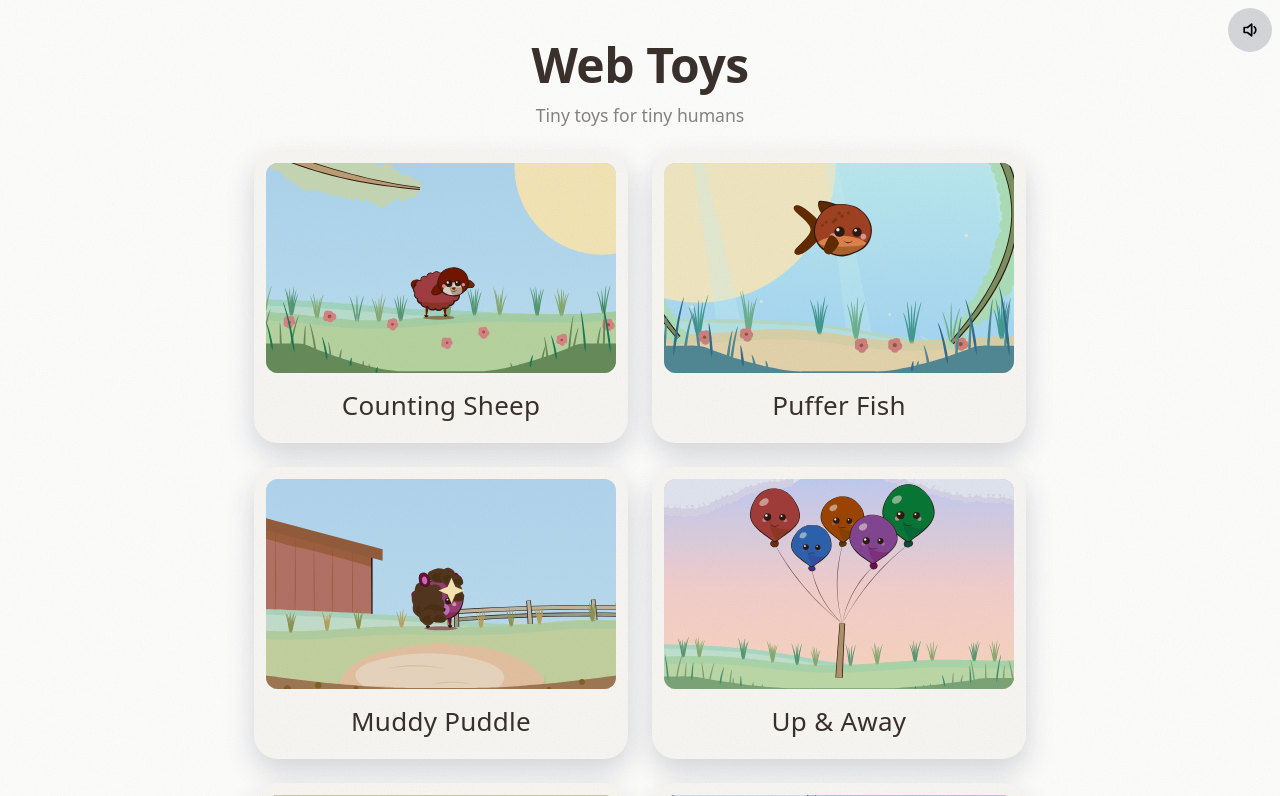
registered toys › routes to the Puffer Fish Toy when its Card is tapped
Click the link "Puffer Fish": coordinates (839, 297) [652,151,1026,443]
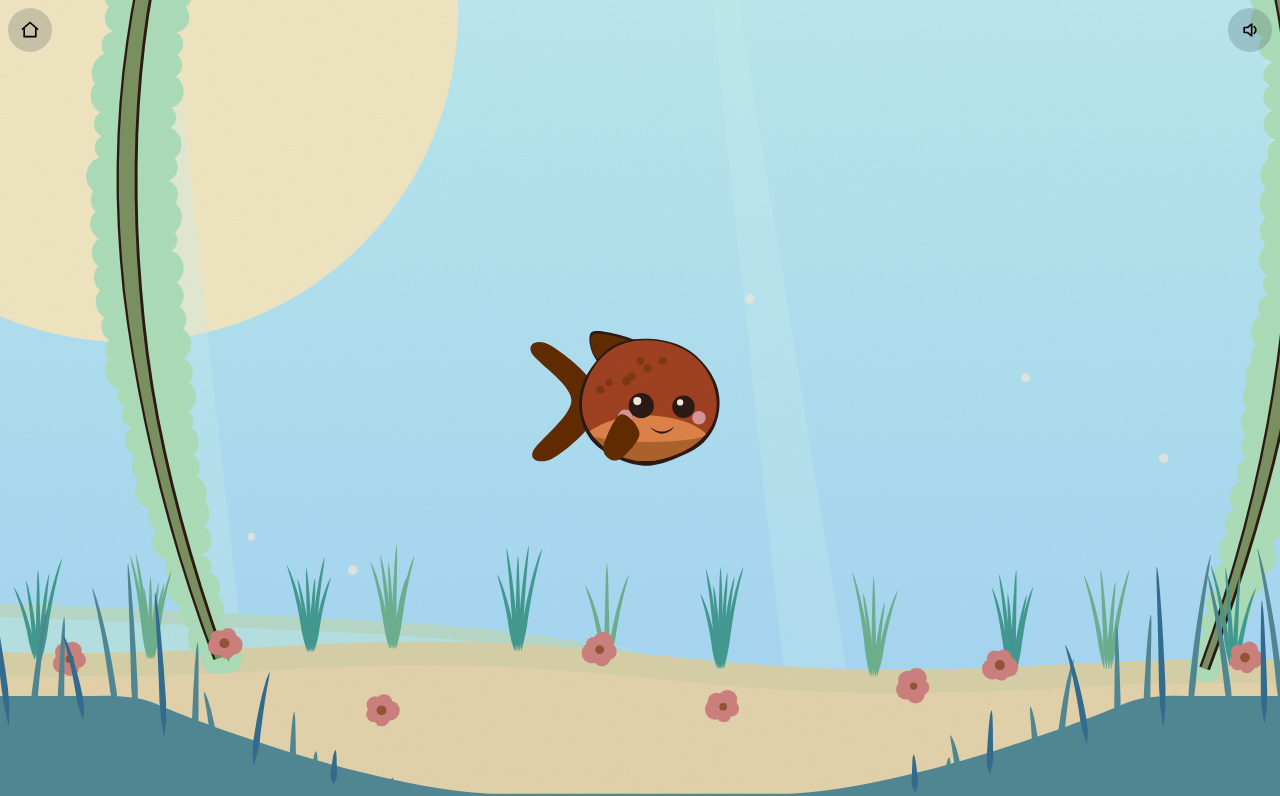
Now the button named "Fish" is shown, box [530,304,750,506]
Now the link "Counting Sheep" is gone
